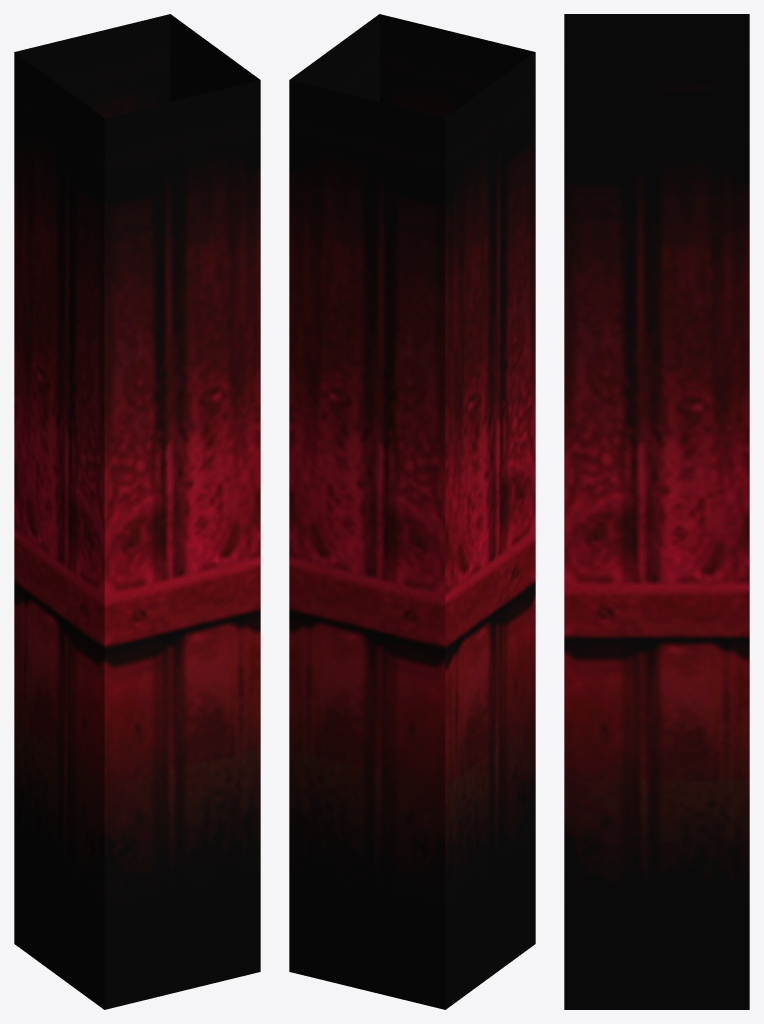
File: SupportBeam.glb
The picture shows the model from 3 angles, left to right: view 1: azimuth 30°, elevation 25°; view 2: azimuth 150°, elevation 25°; view 3: azimuth 270°, elevation 25°; orthographic projection. The views are drawn at different scales.
Parts seen in each view (by area): view 1: Cube; view 2: Cube; view 3: Cube.
Part boxes in pixels (left/top/right/bottom): Cube: left=14, top=14, right=260, bottom=1009; Cube: left=289, top=14, right=535, bottom=1009; Cube: left=564, top=14, right=749, bottom=1009.
Bounding box in the file's own units: 2 × 10.92 × 2.
1 material, 1 textured.
